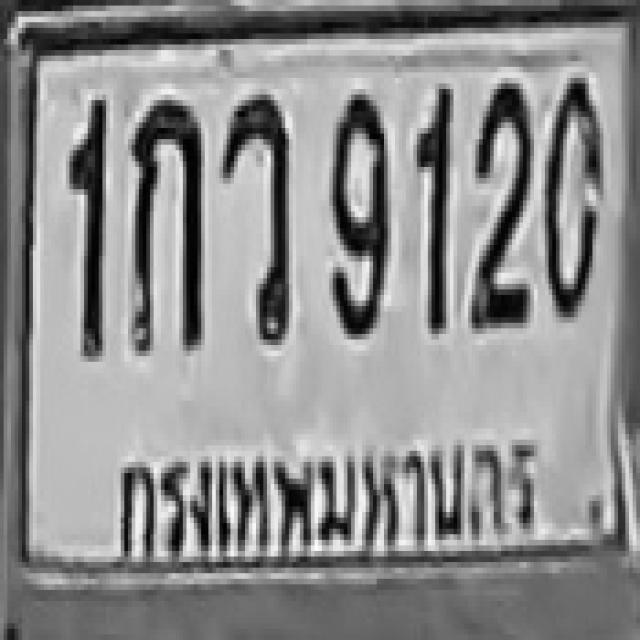0: (541, 72, 600, 312)
1: (66, 97, 106, 359), (415, 84, 452, 328)
10GorGai: (128, 94, 201, 350)
2: (470, 78, 528, 323)
46WorWaen: (220, 89, 286, 340)
9: (329, 89, 388, 334)
Bangkok: (106, 419, 554, 560)
